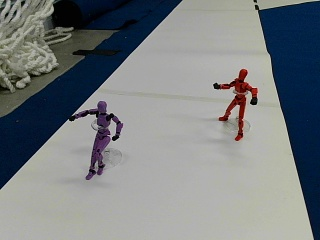pedestrian: (71, 100, 121, 178), (213, 68, 258, 139)
